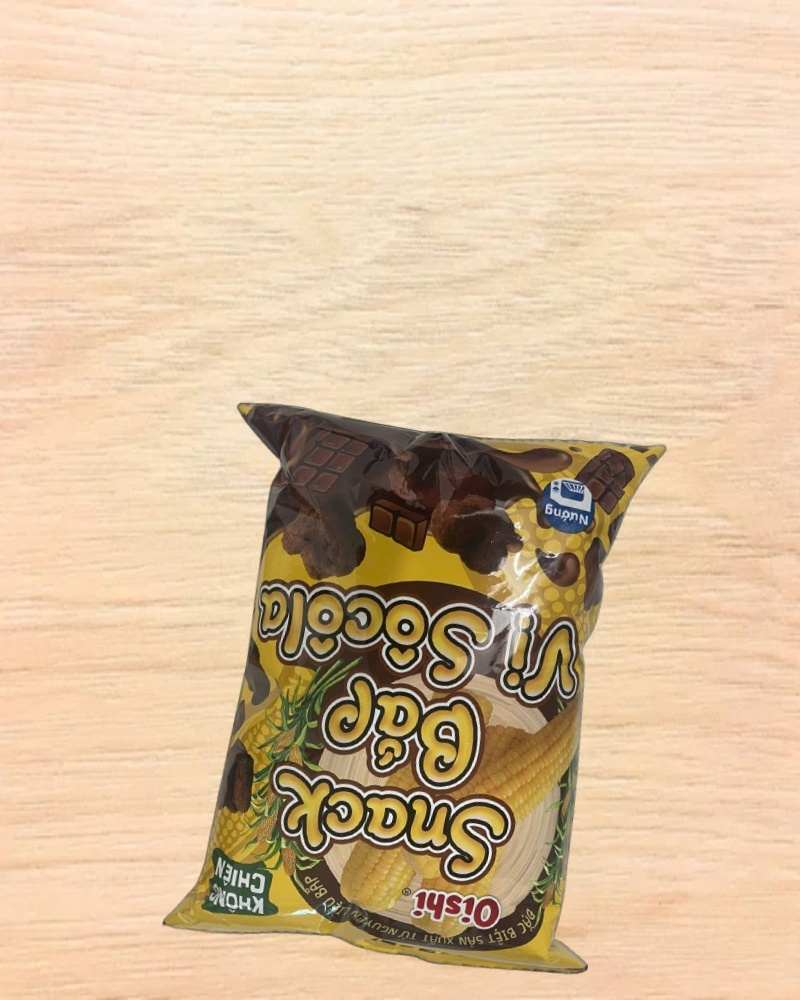Snack socola: (149, 375, 679, 999)
